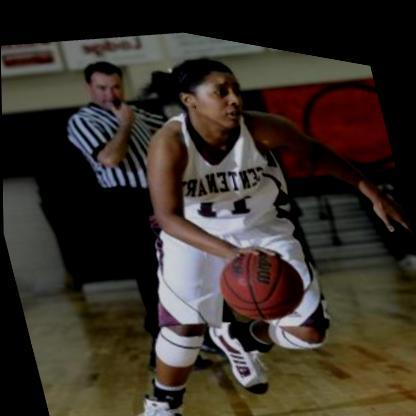basketball: (210, 225, 312, 326)
